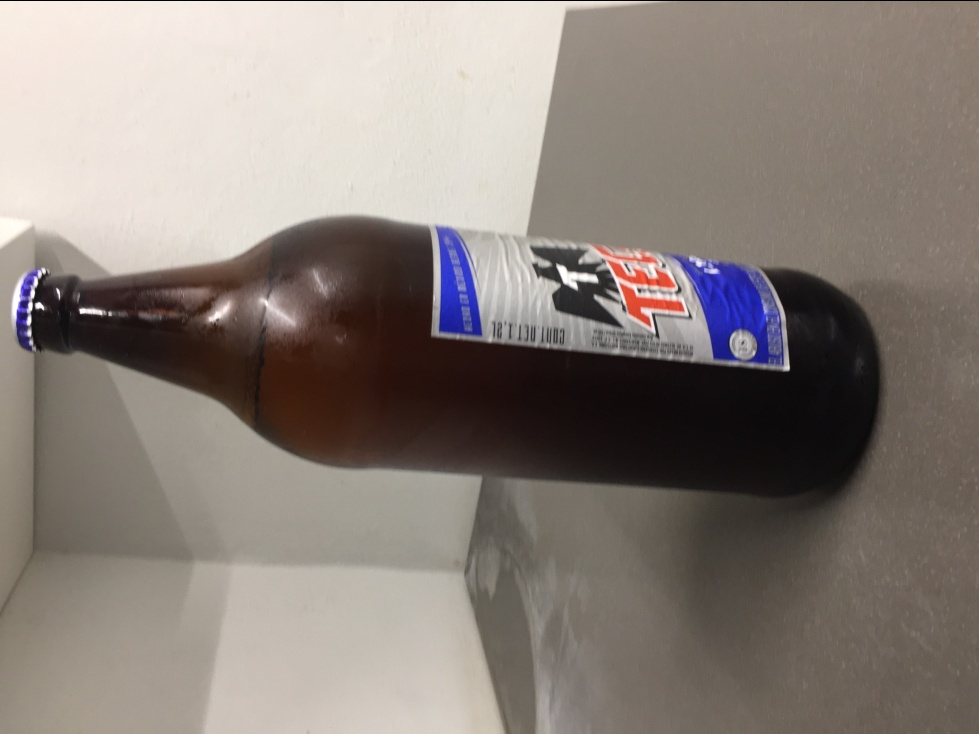tecateC: (12, 210, 879, 498)
